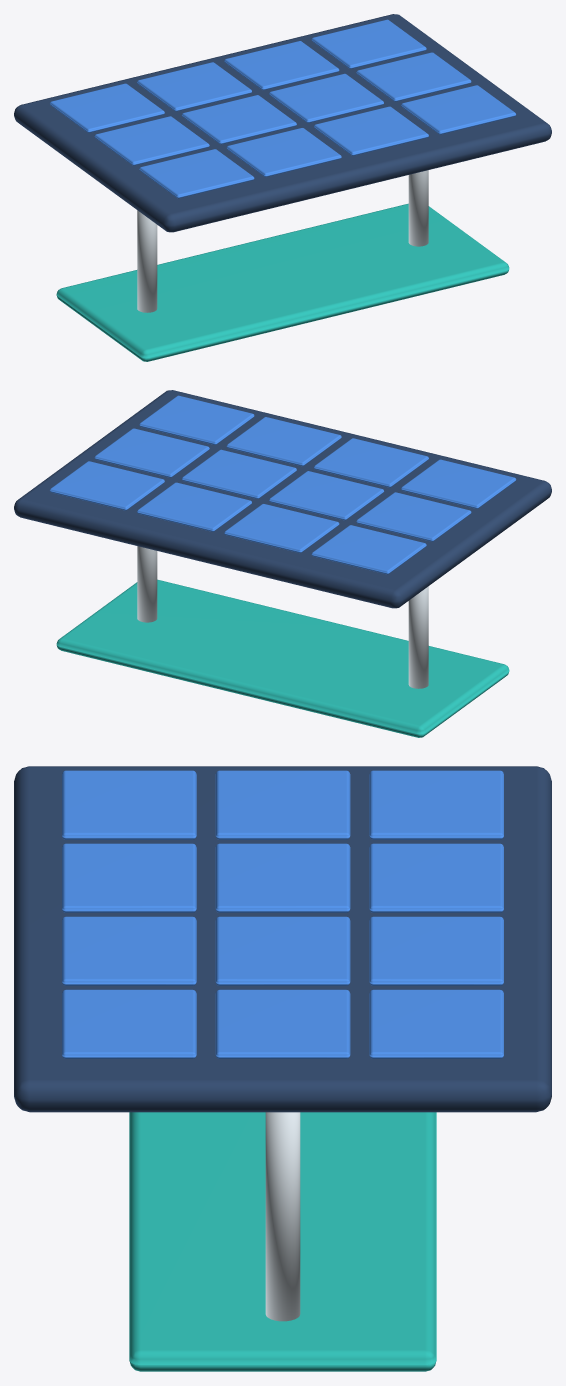
File: solar-panel-quality.glb
3 renders of one model, top to bottom at view 1: azimuth 30°, elevation 25°; view 2: azimuth 150°, elevation 25°; view 3: azimuth 270°, elevation 25°, orthographic. The views are drawn at different scales.
Parts seen in each view (by area): view 1: Panel frame; view 2: Panel frame; view 3: Panel frame.
Boxes of the visible parts, x1,y1,x2,y2 form: Panel frame: [14, 14, 551, 361]; Panel frame: [14, 390, 551, 737]; Panel frame: [14, 766, 551, 1371].
Size of the model in its own units: 2 by 0.89 by 1.4.
